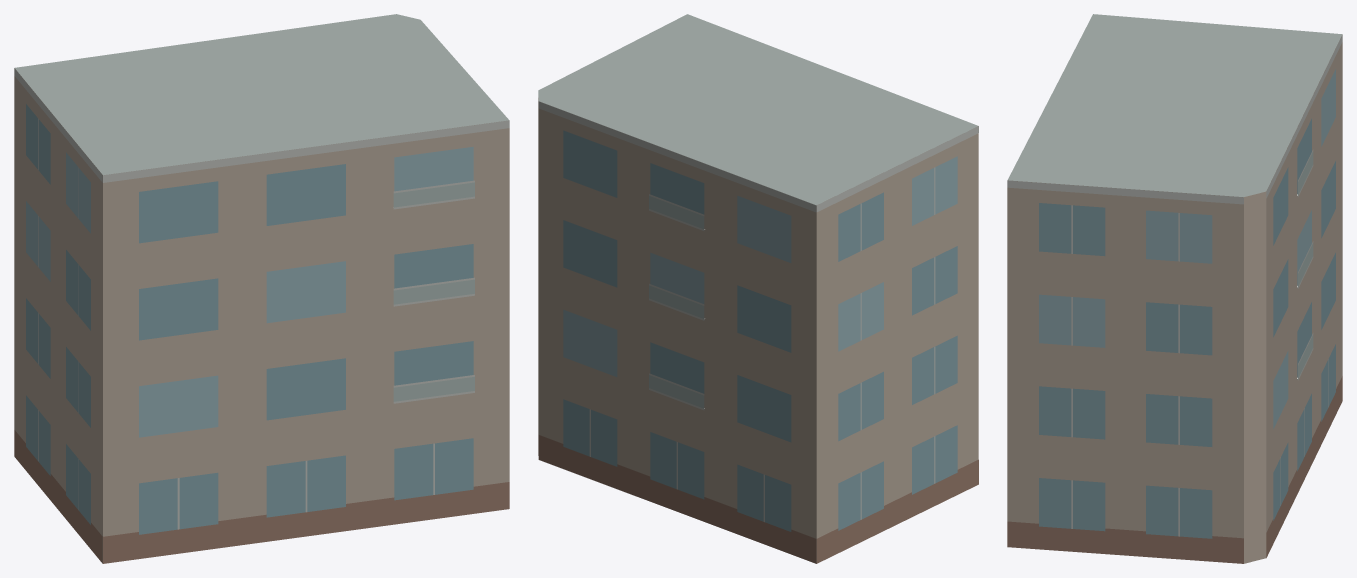
File: survey-upis-32679898.glb
3 renders of one model, left to right at view 1: azimuth 30°, elevation 25°; view 2: azimuth 150°, elevation 25°; view 3: azimuth 270°, elevation 25°, orthographic. The views are drawn at different scales.
Parts seen in each view (by area): view 1: survey-upis-32679898.tmp; view 2: survey-upis-32679898.tmp; view 3: survey-upis-32679898.tmp.
Boxes of the visible parts, x1,y1,x2,y2 form: survey-upis-32679898.tmp: (14, 14, 509, 563); survey-upis-32679898.tmp: (538, 14, 978, 563); survey-upis-32679898.tmp: (1007, 14, 1342, 563).
Size of the model in its own units: 13.08 by 12.2 by 10.12.
